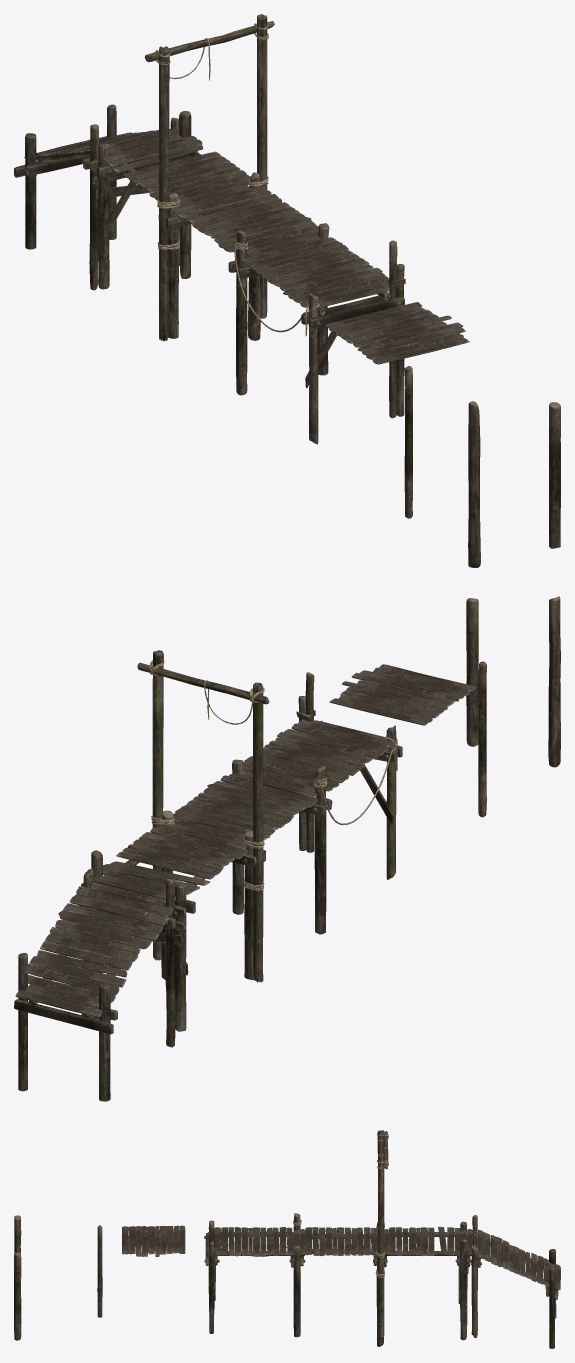
Rendered from modular_wooden_pier_1k.glb.
3 views of the same model, one above another, from view 1: azimuth 30°, elevation 25°; view 2: azimuth 150°, elevation 25°; view 3: azimuth 270°, elevation 25° (orthographic). The views are drawn at different scales.
Parts seen in each view (by area): view 1: modular_wooden_pier_section_01, modular_wooden_pier_section_03, modular_wooden_pier_section_02, modular_wooden_pier_section_05, modular_wooden_pier_section_04, modular_wooden_pier_planks, modular_wooden_pier_poles; view 2: modular_wooden_pier_section_04, modular_wooden_pier_section_01, modular_wooden_pier_section_03, modular_wooden_pier_section_02, modular_wooden_pier_section_05, modular_wooden_pier_poles, modular_wooden_pier_planks; view 3: modular_wooden_pier_section_01, modular_wooden_pier_section_04, modular_wooden_pier_section_03, modular_wooden_pier_section_02, modular_wooden_pier_planks, modular_wooden_pier_section_05, modular_wooden_pier_poles.
Part boxes in pixels (x1=…): modular_wooden_pier_section_01: x1=228, y1=223, x2=405, y2=444; modular_wooden_pier_section_03: x1=89, y1=111, x2=250, y2=289; modular_wooden_pier_section_02: x1=158, y1=172, x2=318, y2=340; modular_wooden_pier_section_05: x1=144, y1=14, x2=274, y2=341; modular_wooden_pier_section_04: x1=14, y1=104, x2=179, y2=290; modular_wooden_pier_planks: x1=325, y1=302, x2=469, y2=364; modular_wooden_pier_poles: x1=404, y1=366, x2=560, y2=567; modular_wooden_pier_section_04: x1=14, y1=868, x2=175, y2=1101; modular_wooden_pier_section_01: x1=229, y1=672, x2=402, y2=934; modular_wooden_pier_section_03: x1=81, y1=827, x2=247, y2=1031; modular_wooden_pier_section_02: x1=160, y1=775, x2=317, y2=980; modular_wooden_pier_section_05: x1=137, y1=650, x2=269, y2=982; modular_wooden_pier_poles: x1=466, y1=596, x2=560, y2=817; modular_wooden_pier_planks: x1=329, y1=664, x2=476, y2=725; modular_wooden_pier_section_01: x1=204, y1=1213, x2=305, y2=1337; modular_wooden_pier_section_04: x1=471, y1=1215, x2=560, y2=1348; modular_wooden_pier_section_03: x1=376, y1=1221, x2=473, y2=1340; modular_wooden_pier_section_02: x1=292, y1=1222, x2=389, y2=1346; modular_wooden_pier_planks: x1=122, y1=1225, x2=185, y2=1256; modular_wooden_pier_section_05: x1=375, y1=1130, x2=388, y2=1337; modular_wooden_pier_poles: x1=14, y1=1215, x2=102, y2=1340.
Size of the model in its own units: 3.1 by 7.52 by 19.03.
3 materials, 3 textured.
